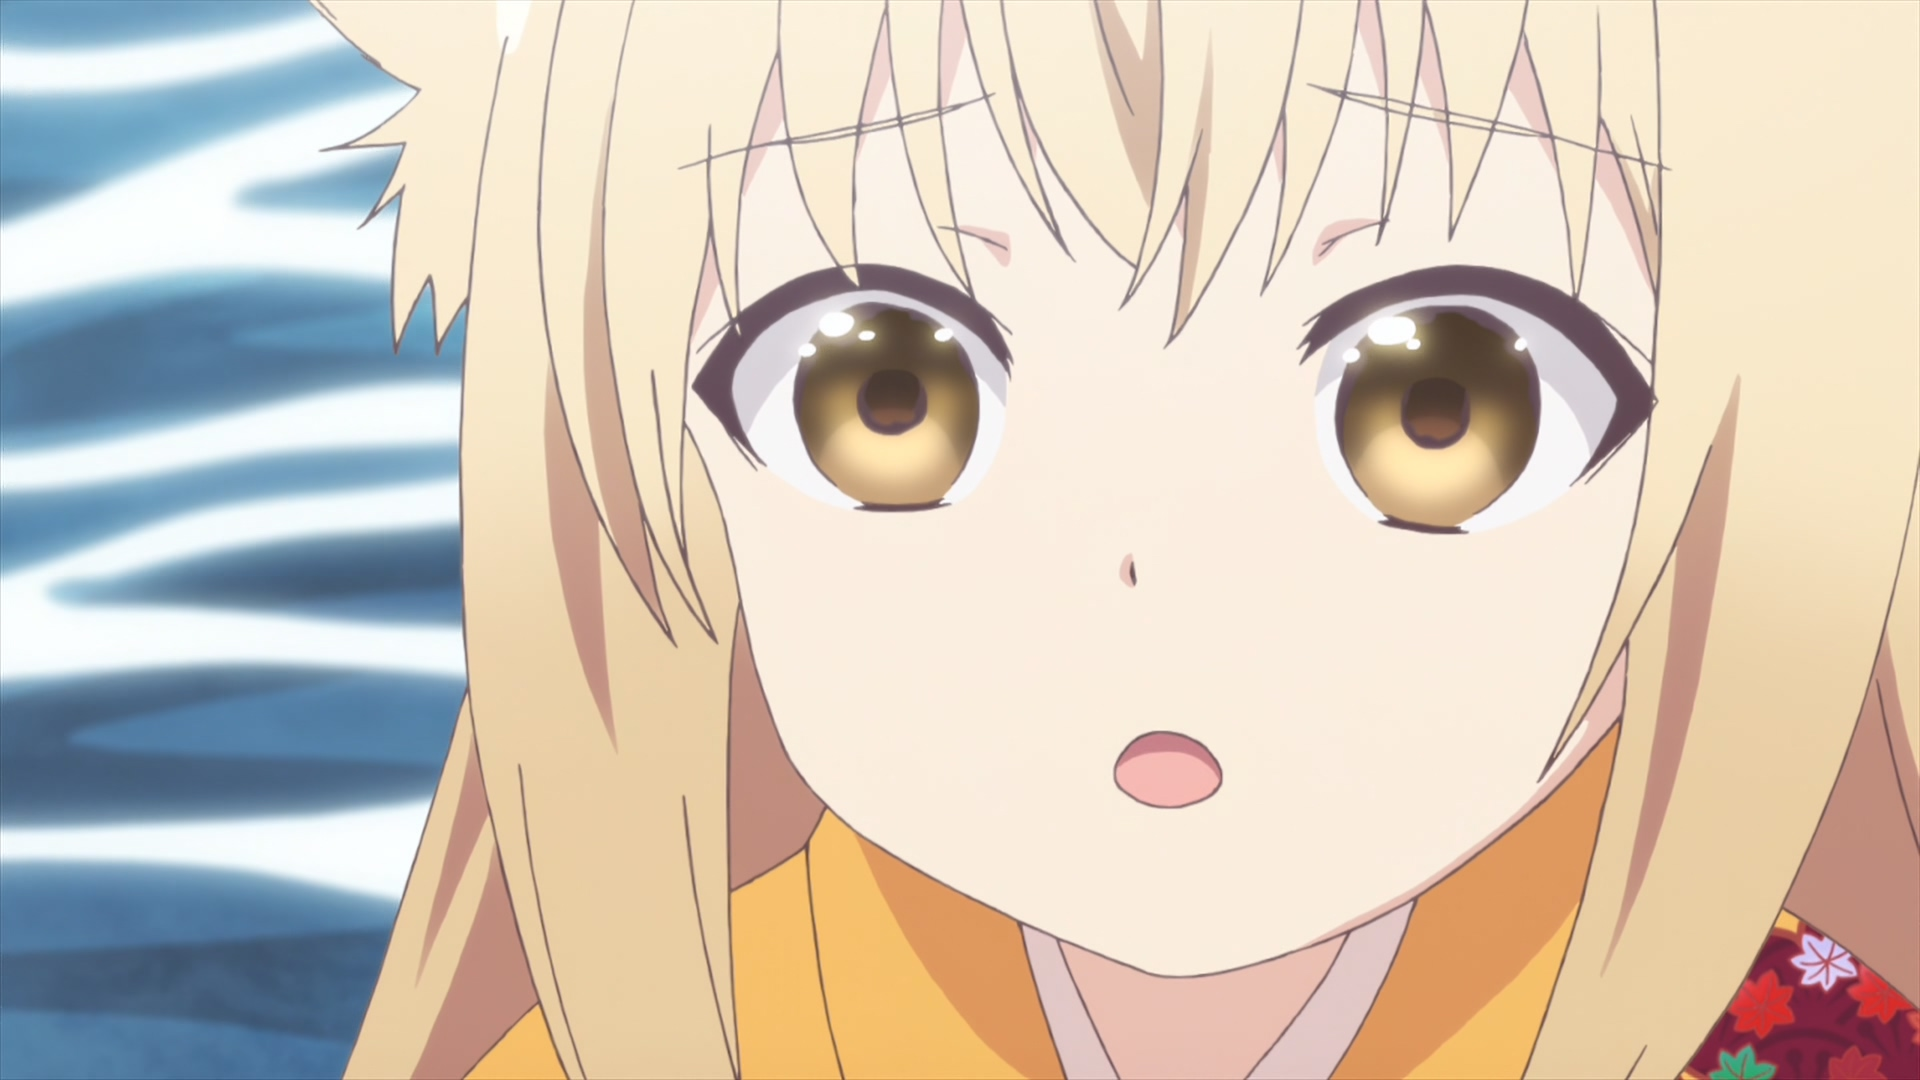柚: (309, 1, 1920, 1080)
